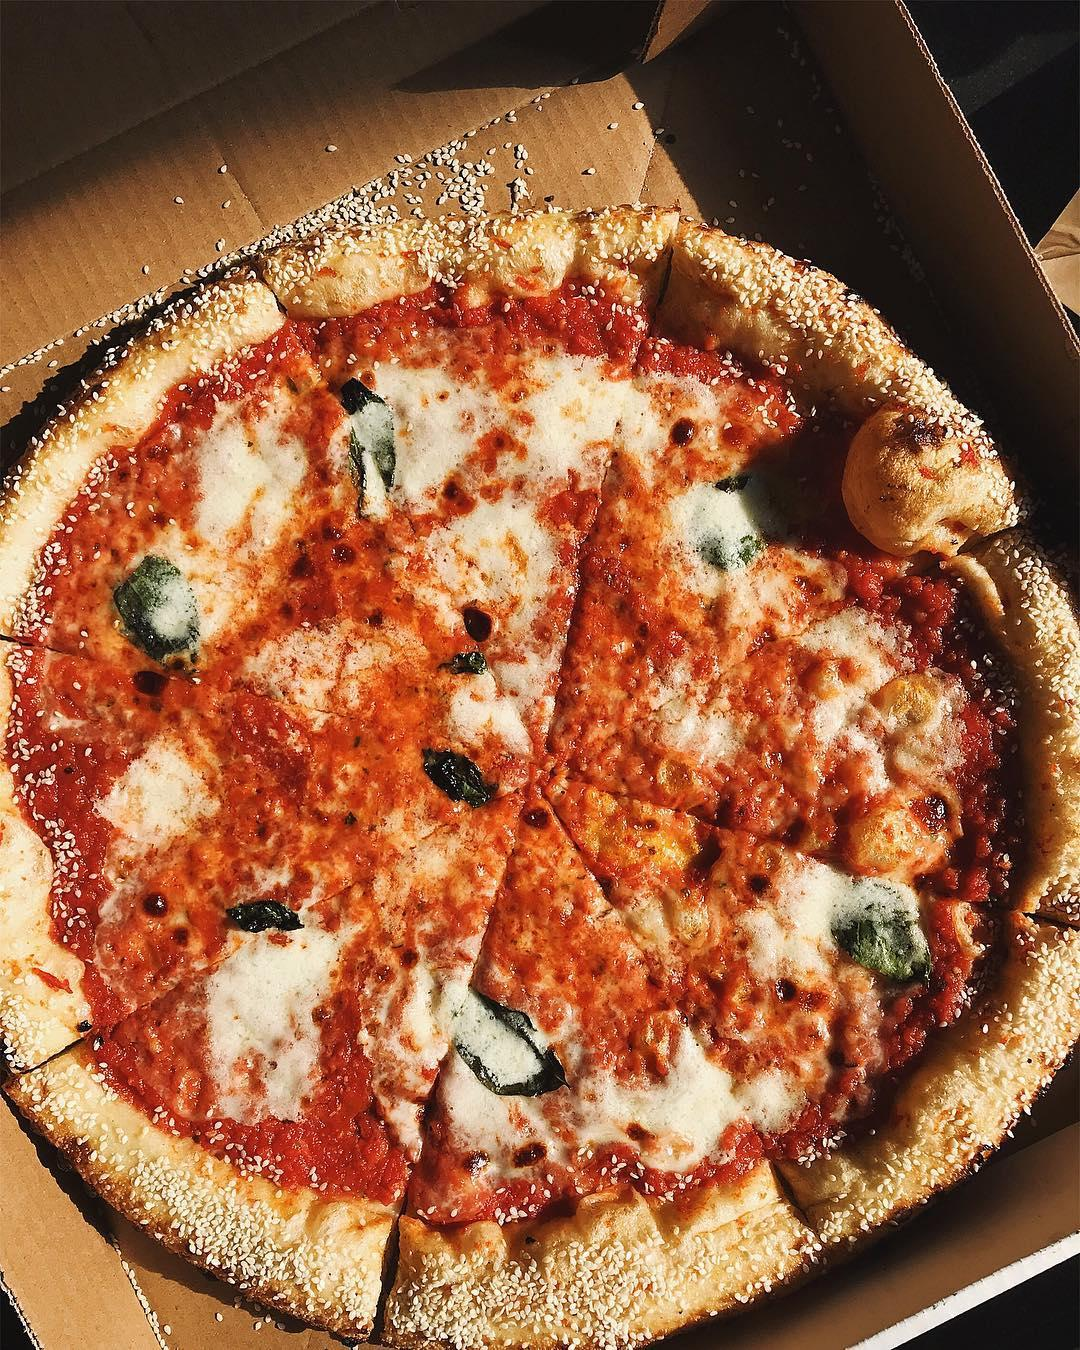Basil: (684, 472, 818, 560), (129, 553, 209, 693), (460, 1000, 572, 1098), (833, 882, 938, 986), (336, 375, 403, 526), (425, 745, 496, 814), (229, 903, 305, 933)
Pizza: (0, 204, 1051, 1331)
